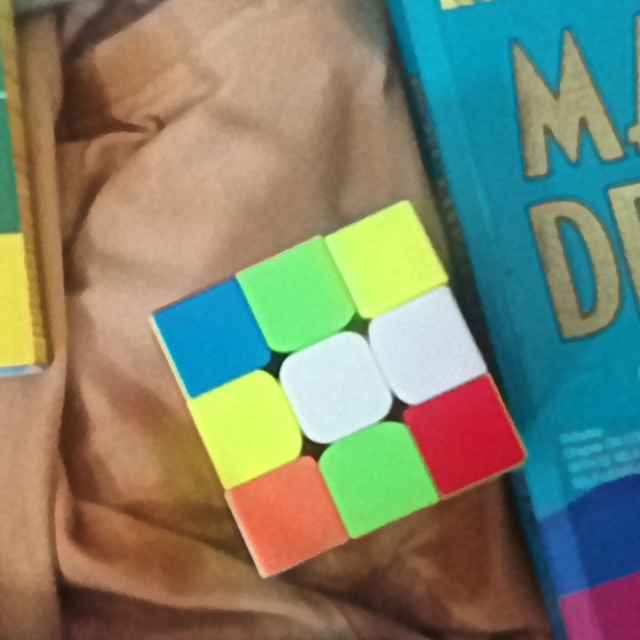tile: (427, 400, 503, 472), (248, 484, 324, 551), (300, 354, 374, 422), (260, 266, 333, 333), (209, 396, 282, 462), (347, 228, 421, 293), (391, 314, 460, 381), (344, 441, 411, 509), (176, 309, 245, 369)
